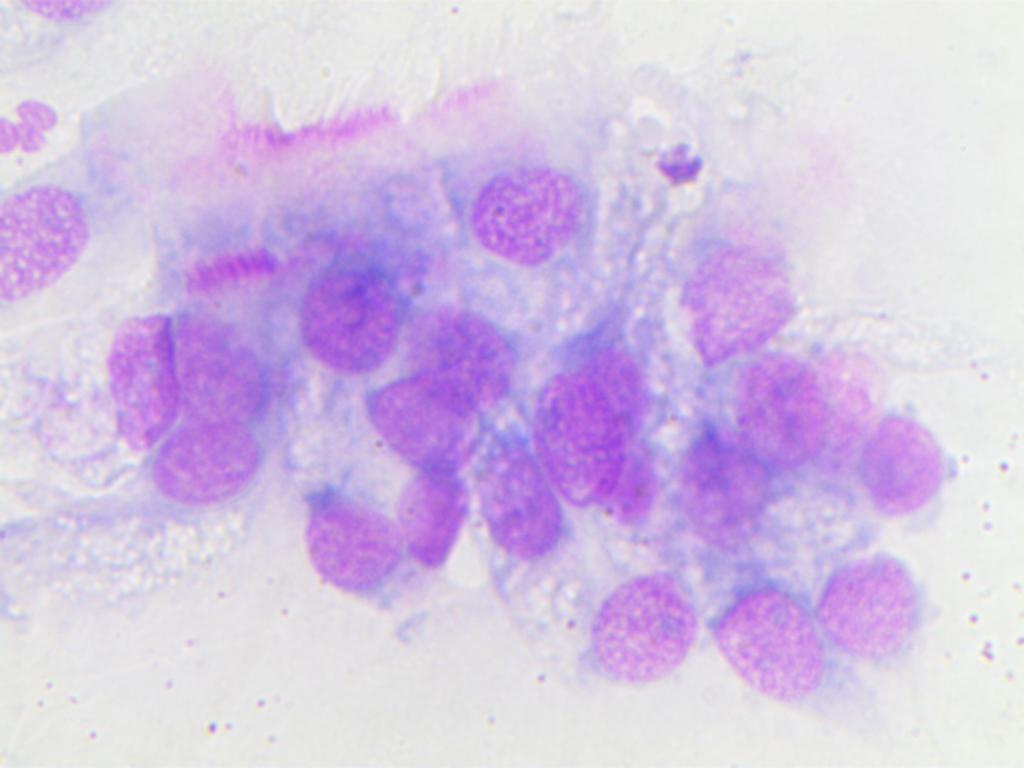ciliated: (3, 65, 244, 318), (398, 59, 597, 289), (284, 90, 416, 378), (163, 237, 284, 438)
epithelial: (522, 375, 658, 518), (582, 571, 720, 687), (299, 480, 426, 605), (398, 290, 520, 416), (684, 238, 799, 362), (374, 368, 499, 478), (95, 296, 178, 456), (140, 412, 275, 504), (729, 585, 827, 704), (662, 445, 773, 541), (401, 457, 476, 590), (862, 418, 960, 514), (847, 560, 936, 664), (729, 376, 839, 460)
neutrophil: (0, 89, 71, 167)
